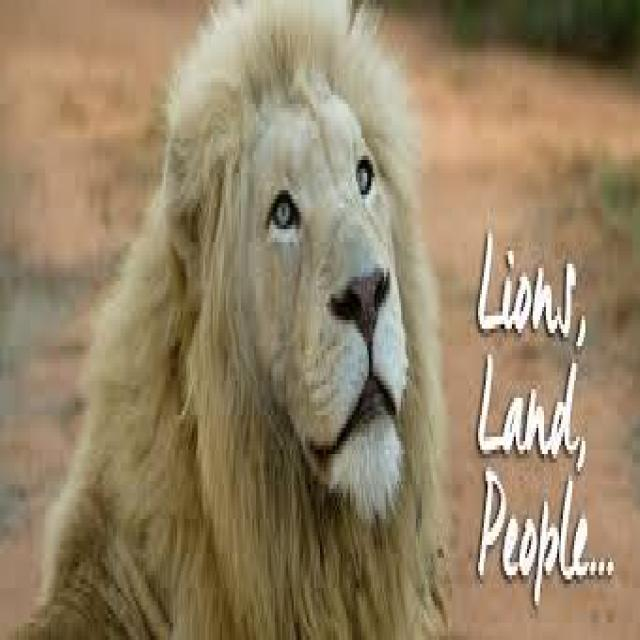Lion: (17, 0, 444, 636)
